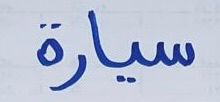alef: (89, 7, 103, 70)
reh: (64, 46, 87, 89)
seen: (145, 36, 197, 70)
teh_marbota: (33, 17, 63, 68)
yeh: (105, 36, 143, 85)
